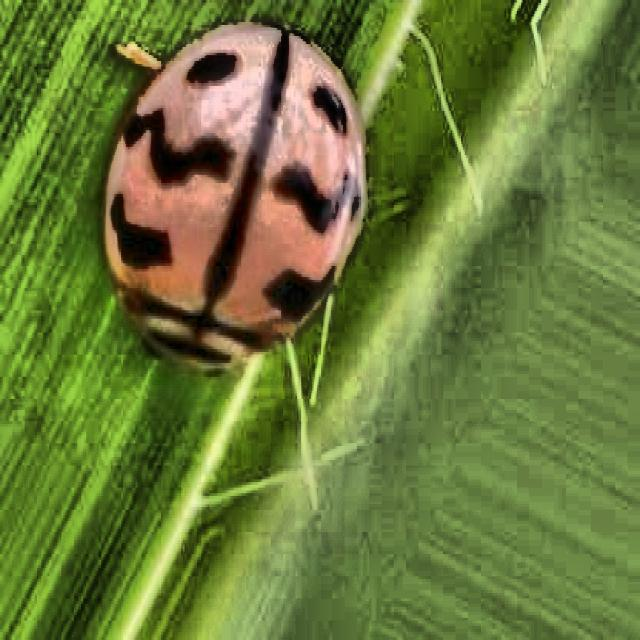Asian-Lady-beetle: (81, 13, 423, 402)
